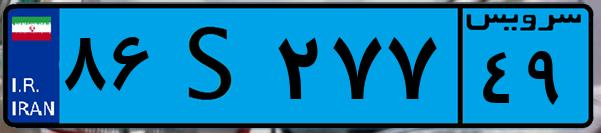2: (270, 28, 330, 110)
4: (475, 38, 525, 113)
6: (110, 28, 158, 98)
7: (385, 28, 445, 110), (330, 28, 385, 110)
8: (57, 26, 110, 100)
9: (525, 38, 570, 115)
S: (158, 12, 270, 120)
